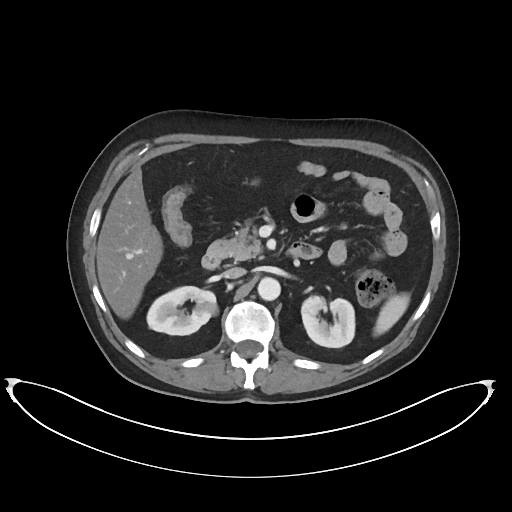Lesion: (202, 296, 223, 320)
